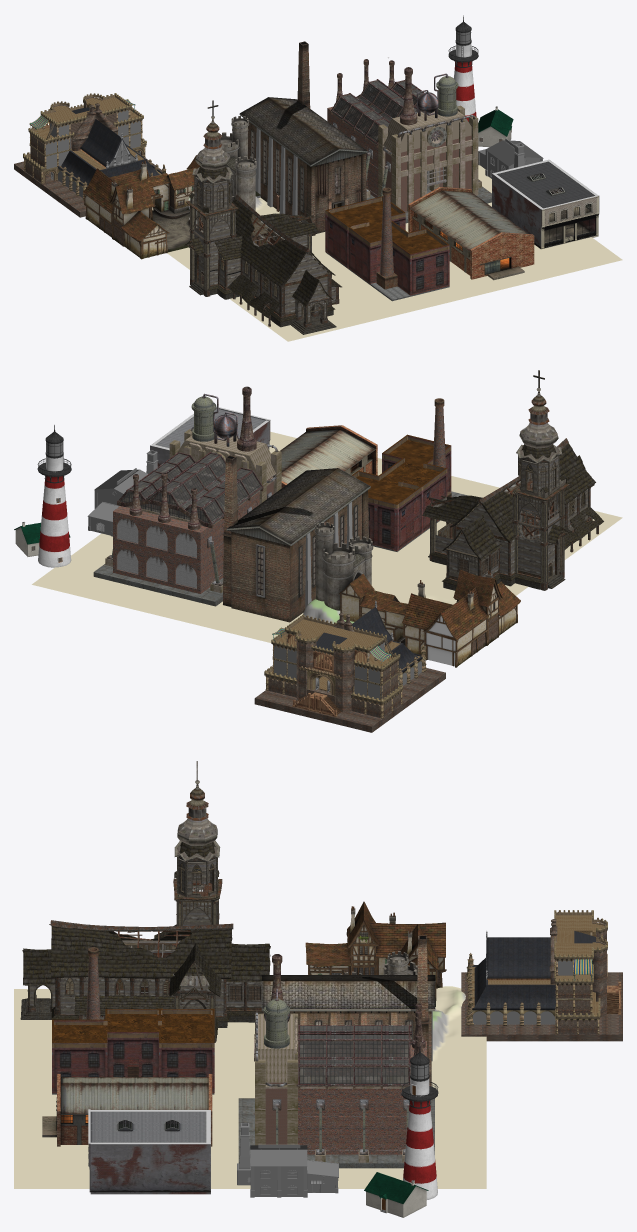
3 views of the same model, one above another, from view 1: azimuth 30°, elevation 25°; view 2: azimuth 150°, elevation 25°; view 3: azimuth 270°, elevation 25° (orthographic). The views are drawn at different scales.
Visible parts, largest first — view 1: 09c58359 (×7), Large Steam Hall V2 (×9), Victorian Building Fabbrica 1 (×6), Vb large factory - with stone ground, Titans_Medi_Village_MedPhi (×5), prim0-mesh (×7), Medieval Castle, _Fanatik Architecture_ Kubus Mesh Prefab Warehouse 40x20 (×6), Terrain 4,10, Terrain 5,10, CHURCH OLD ABANDONED TEXTURED, Titans Medi Village (+5 smaller); view 2: Large Steam Hall V2 (×12), 09c58359 (×6), Victorian Building Fabbrica 1 (×5), Titans_Medi_Village_MedPhi (×4), Medieval Castle, Vb large factory - with stone ground, Terrain 5,11, prim0-mesh (×4), Terrain 4,11, Titans Medi Village, Terrain 4,10, CHURCH OLD ABANDONED TEXTURED (+6 smaller); view 3: 09c58359 (×6), Large Steam Hall V2 (×8), prim0-mesh (×8), Vb large factory - with stone ground, Terrain 5,10, Victorian Building Fabbrica 1 (×3), Medieval Castle, Terrain 5,11, Terrain 4,10, Terrain 4,11, _Fanatik Architecture_ Kubus Mesh Prefab Warehouse 40x20 (×4), Titans_Medi_Village_MedPhi (×2) (+8 smaller).
Boxes of the visible parts, x1,y1,x2,y2 form: 09c58359 (×7): (184,100,341,334); Large Steam Hall V2 (×9): (331,67,478,211); Victorian Building Fabbrica 1 (×6): (239,41,368,235); Vb large factory - with stone ground: (325,187,449,301); Titans_Medi_Village_MedPhi (×5): (83,116,260,259); prim0-mesh (×7): (453,43,595,249); Medieval Castle: (14,93,162,217); _Fanatik Architecture_ Kubus Mesh Prefab Warehouse 40x20 (×6): (410,191,534,279); Terrain 4,10: (230,238,454,341); Terrain 5,10: (405,202,622,300); CHURCH OLD ABANDONED TEXTURED: (242,218,335,322); Titans Medi Village: (83,160,170,214); Large Steam Hall V2 (×12): (113,386,281,593); 09c58359 (×6): (422,370,603,590); Victorian Building Fabbrica 1 (×5): (222,455,370,622); Titans_Medi_Village_MedPhi (×4): (314,522,520,667); Medieval Castle: (254,614,445,732); Vb large factory - with stone ground: (352,398,467,551); Terrain 5,11: (32,533,244,630); prim0-mesh (×4): (38,408,265,567); Terrain 4,11: (219,562,456,642); Titans Medi Village: (383,570,494,656); Terrain 4,10: (371,476,622,595); CHURCH OLD ABANDONED TEXTURED: (433,489,587,577); 09c58359 (×6): (20,761,270,1042); Large Steam Hall V2 (×8): (255,999,411,1162); prim0-mesh (×8): (90,1078,437,1217); Vb large factory - with stone ground: (52,947,214,1094); Terrain 5,10: (14,1089,250,1188); Victorian Building Fabbrica 1 (×3): (261,935,435,1085); Medieval Castle: (461,910,622,1041); Terrain 5,11: (250,1089,486,1188); Terrain 4,10: (14,989,250,1088); Terrain 4,11: (250,986,486,1088); _Fanatik Architecture_ Kubus Mesh Prefab Warehouse 40x20 (×4): (60,1083,208,1123); Titans_Medi_Village_MedPhi (×2): (305,901,417,1024).
Size of what is drawn, in the model's own units: 158 by 81.01 by 165.
Materials: 441 (439 with a texture image).
